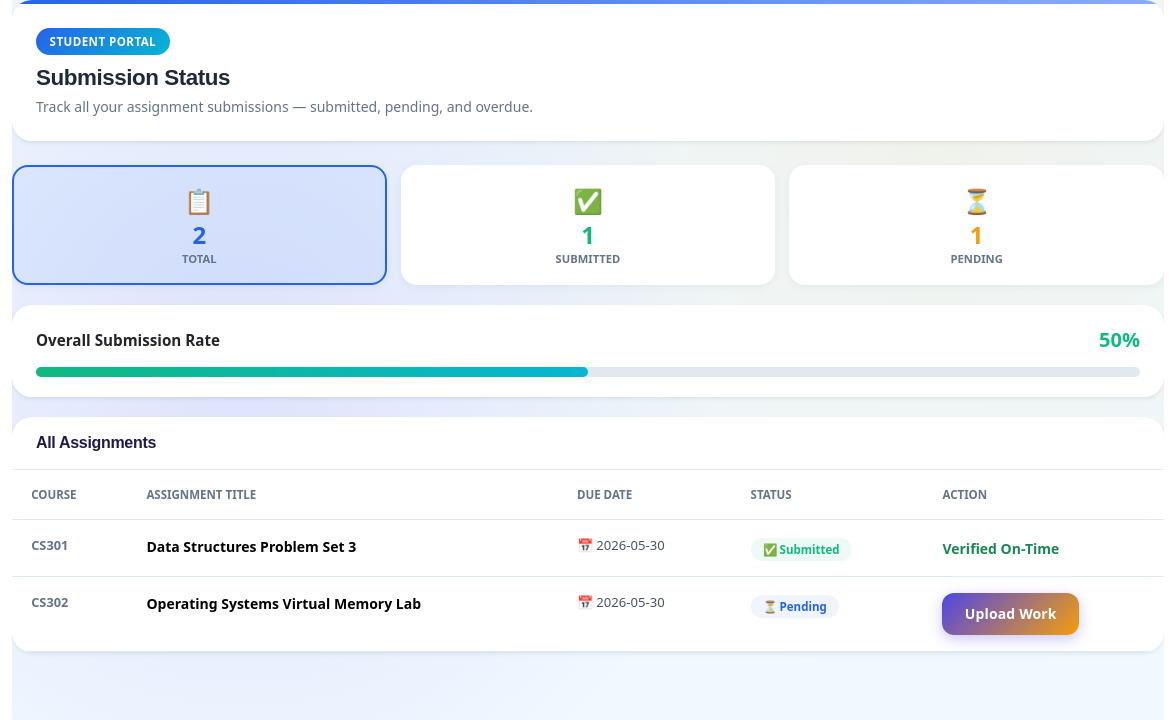
StudentSubmissionStatus Component Tests › submits pending assignment work and shows success toast
Click the button with test id "submit-btn-asg-2" at (1011, 614), box [942,593,1079,635]
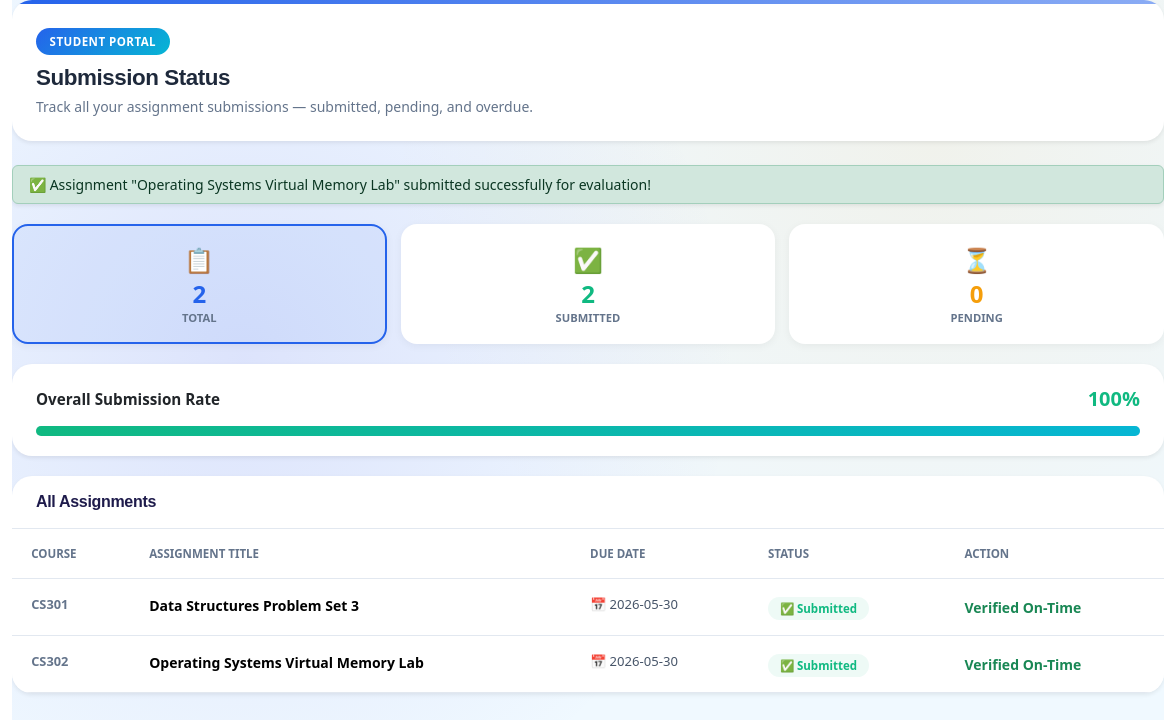
Check: the message with test id "submission-toast" is shown, box [12,165,1164,204]
Check: the text "submitted successfully for evaluation!" is shown, box [50,175,651,194]
